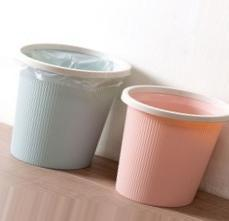Bote de Basura: (5, 41, 132, 166), (116, 74, 228, 206)
